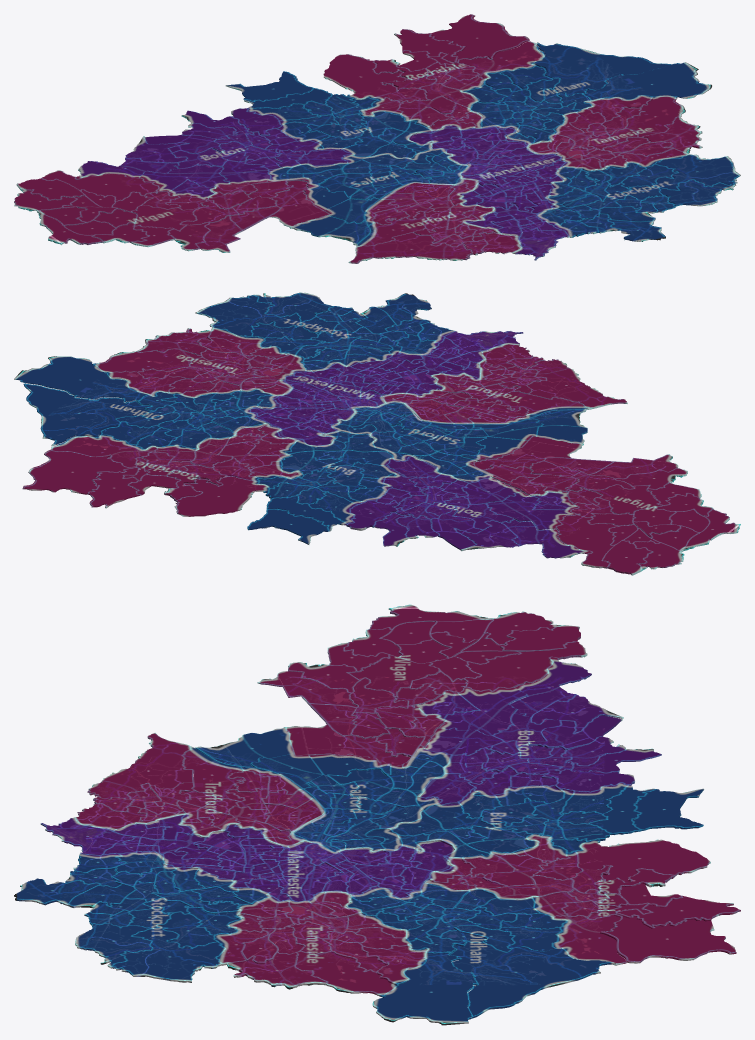
Rendered from GM_Wards_Fill.FBX.
3 views of the same model, one above another, from view 1: azimuth 30°, elevation 25°; view 2: azimuth 150°, elevation 25°; view 3: azimuth 270°, elevation 25° (orthographic). The views are drawn at different scales.
Visible parts, largest first — view 1: Object092, Object093, Object107, Object110, Object183, Object146, Object203, Object109, Object161, Object089, Object016, Object115 (+87 smaller); view 2: Object092, Object093, Object107, Object110, Object183, Object146, Object203, Object089, Object109, Object161, Object016, Object028 (+89 smaller); view 3: Object092, Object093, Object107, Object110, Object146, Object183, Object203, Object161, Object109, Object016, Object089, Object028 (+88 smaller).
Part boxes in pixels (x1=…): Object092: x1=533, y1=42, x2=671, y2=96; Object093: x1=584, y1=62, x2=711, y2=100; Object107: x1=431, y1=14, x2=529, y2=62; Object110: x1=323, y1=54, x2=409, y2=99; Object183: x1=348, y1=232, x2=472, y2=263; Object146: x1=653, y1=154, x2=740, y2=189; Object203: x1=42, y1=170, x2=159, y2=201; Object109: x1=460, y1=41, x2=545, y2=79; Object161: x1=268, y1=180, x2=329, y2=227; Object089: x1=627, y1=96, x2=685, y2=137; Object016: x1=140, y1=164, x2=230, y2=192; Object115: x1=290, y1=215, x2=370, y2=245; Object092: x1=23, y1=383, x2=152, y2=446; Object093: x1=14, y1=356, x2=147, y2=402; Object107: x1=22, y1=449, x2=134, y2=494; Object110: x1=174, y1=475, x2=268, y2=516; Object183: x1=526, y1=359, x2=627, y2=408; Object146: x1=195, y1=295, x2=299, y2=336; Object203: x1=556, y1=513, x2=618, y2=568; Object089: x1=92, y1=348, x2=200, y2=372; Object109: x1=51, y1=434, x2=156, y2=466; Object161: x1=474, y1=436, x2=583, y2=469; Object016: x1=486, y1=491, x2=577, y2=529; Object028: x1=501, y1=519, x2=592, y2=558; Object092: x1=449, y1=941, x2=615, y2=1018; Object093: x1=372, y1=953, x2=477, y2=1025; Object107: x1=600, y1=914, x2=736, y2=963; Object110: x1=574, y1=839, x2=710, y2=882; Object146: x1=112, y1=927, x2=225, y2=982; Object183: x1=87, y1=732, x2=193, y2=799; Object203: x1=461, y1=641, x2=587, y2=691; Object161: x1=285, y1=724, x2=410, y2=766; Object109: x1=551, y1=915, x2=626, y2=965; Object016: x1=439, y1=687, x2=527, y2=735; Object089: x1=295, y1=952, x2=396, y2=997; Object028: x1=509, y1=656, x2=591, y2=717.
Bounding box in the file's own units: 1382393 × 6203 × 1012764.
